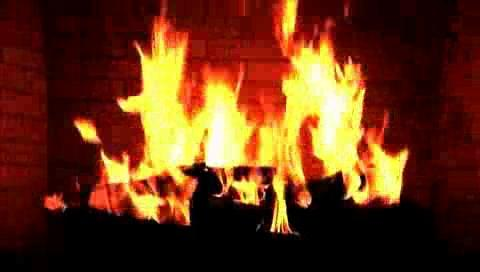fire: (103, 31, 399, 222)
